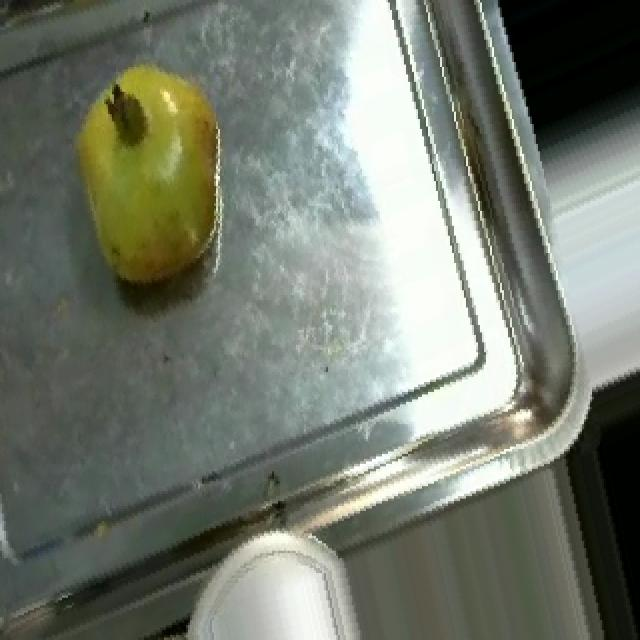fruit: (44, 37, 256, 305)
